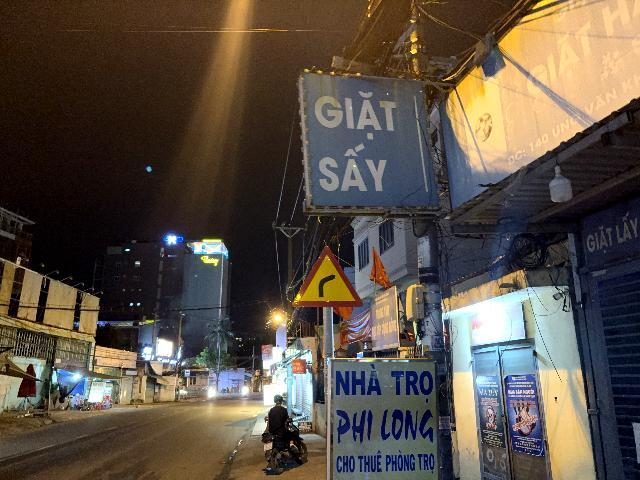cho-ngoat-nguy-hiem-ben-phai: (292, 245, 365, 307)
